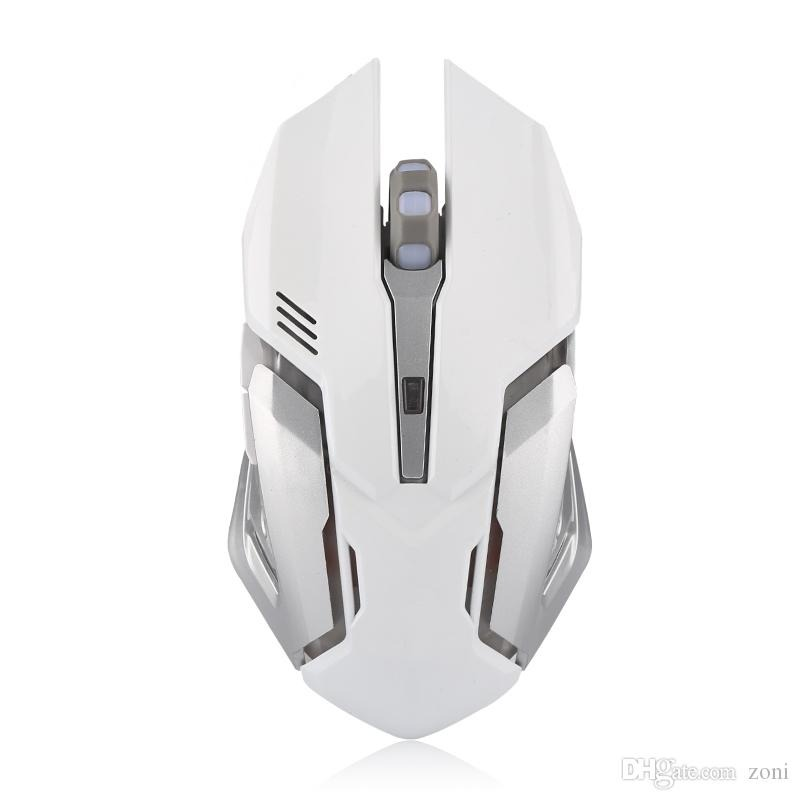mouse: (219, 41, 599, 755)
